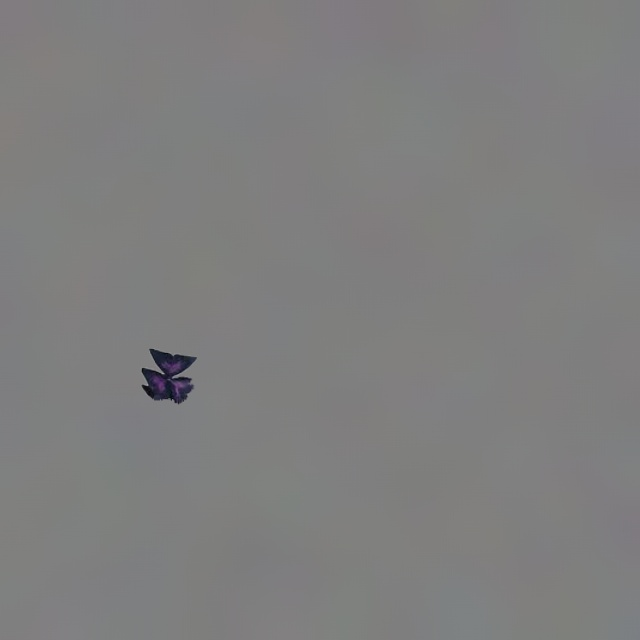butterfly flower: (141, 349, 196, 403)
